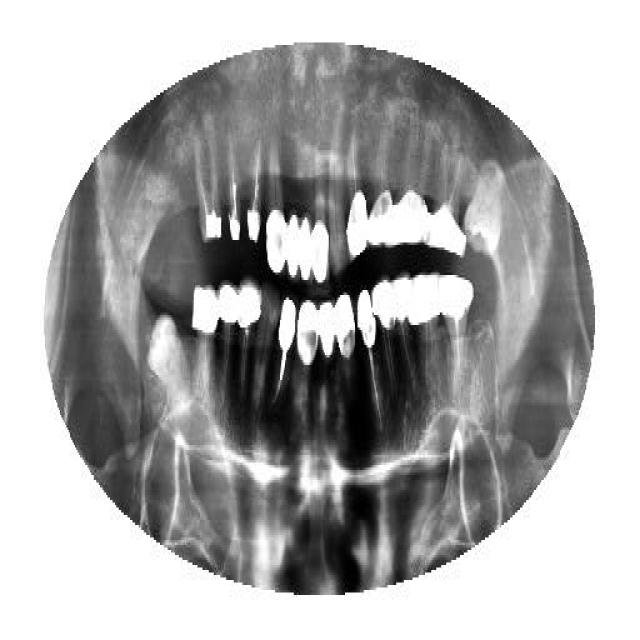Fillings: (392, 130, 428, 248), (260, 122, 284, 280), (191, 283, 219, 405), (306, 162, 329, 282), (284, 147, 300, 285), (298, 160, 312, 288), (296, 298, 319, 372), (335, 293, 355, 365), (319, 295, 336, 370)
Implant: (425, 140, 466, 260), (410, 272, 441, 392), (391, 272, 420, 398), (356, 288, 382, 428), (195, 125, 224, 243), (441, 275, 474, 377), (372, 275, 398, 400), (236, 280, 262, 402), (345, 130, 369, 262), (368, 135, 393, 253), (214, 280, 236, 408), (276, 300, 298, 415), (225, 130, 244, 248), (246, 127, 262, 245)
